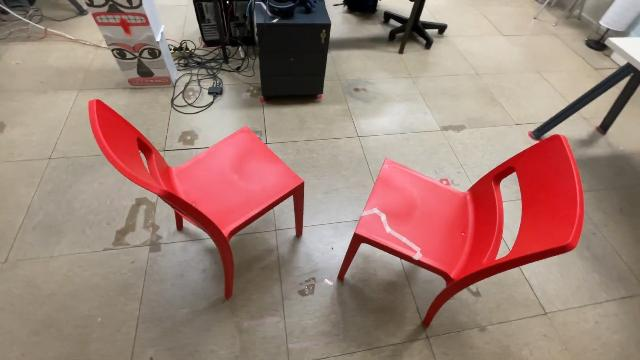Chair: (332, 130, 586, 332), (85, 94, 308, 306)
